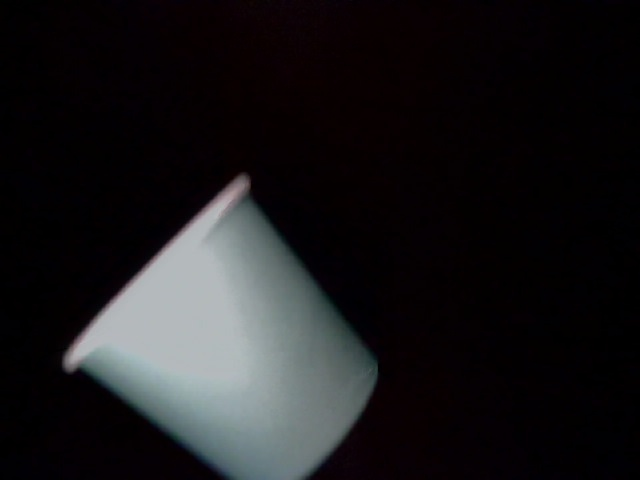CYLJ: (161, 327, 272, 442)
